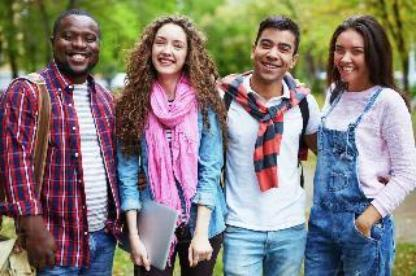person: (0, 6, 123, 276), (110, 10, 229, 276), (309, 10, 416, 276), (214, 11, 311, 276)
